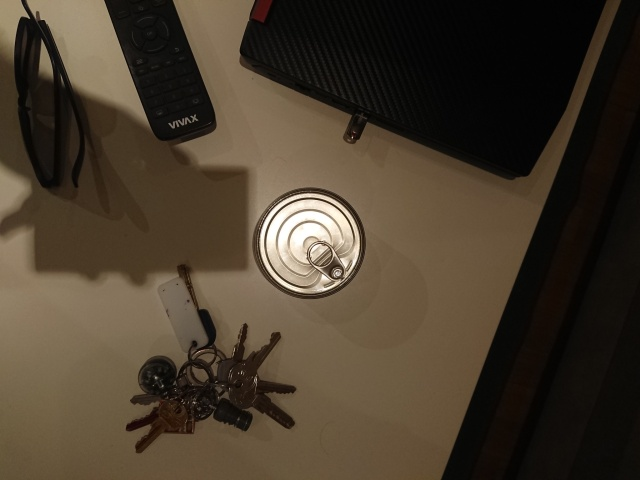Giana Tuna Salad Mexico 185g: (249, 185, 369, 302)
